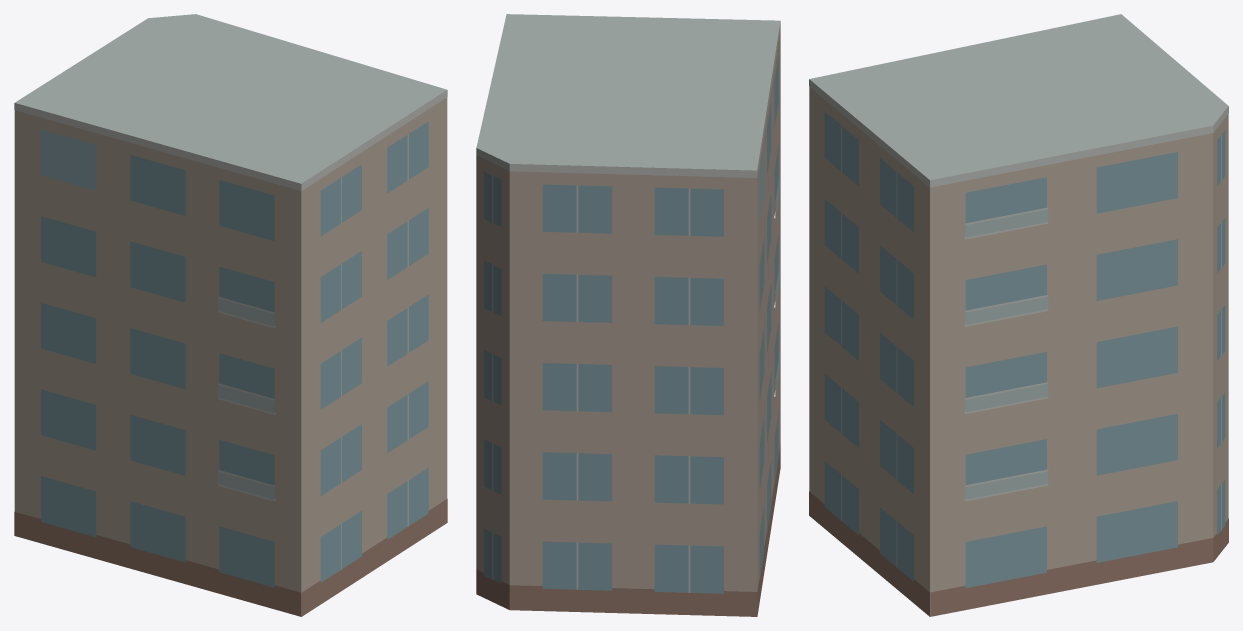
The model's file is survey-upis-33009033.glb.
3 views of the same model, side by side, from view 1: azimuth 30°, elevation 25°; view 2: azimuth 150°, elevation 25°; view 3: azimuth 270°, elevation 25° (orthographic). The views are drawn at different scales.
Parts seen in each view (by area): view 1: survey-upis-33009033.tmp; view 2: survey-upis-33009033.tmp; view 3: survey-upis-33009033.tmp.
Boxes of the visible parts, x1=… form: survey-upis-33009033.tmp: x1=14, y1=14, x2=447, y2=616; survey-upis-33009033.tmp: x1=476, y1=14, x2=780, y2=616; survey-upis-33009033.tmp: x1=809, y1=14, x2=1228, y2=616.
Size of the model in its own units: 11.9 by 14.55 by 12.68.
